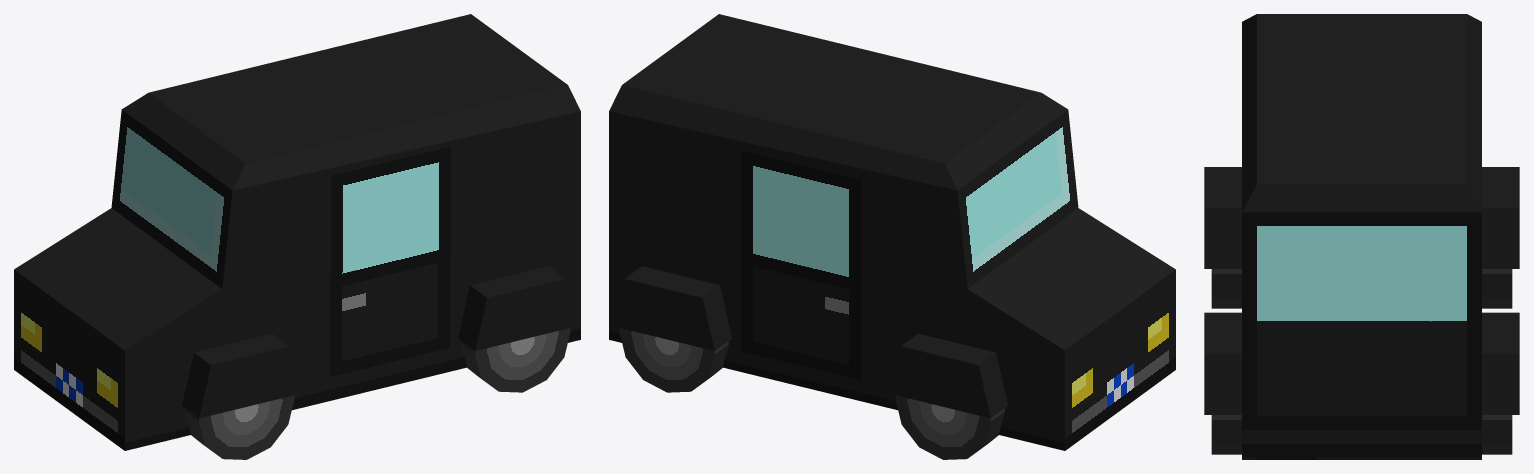
File: black.gltf
3 renders of one model, left to right at view 1: azimuth 30°, elevation 25°; view 2: azimuth 150°, elevation 25°; view 3: azimuth 270°, elevation 25°, orthographic. The views are drawn at different scales.
Visible parts, largest first — view 1: cube (×3), circle (×2); view 2: cube (×3), circle (×2); view 3: cube (×5), circle (×4).
Boxes of the visible parts, x1,y1,x2,y2 form: cube (×3): (14, 14, 580, 450); circle (×2): (185, 328, 570, 459); cube (×3): (609, 14, 1175, 450); circle (×2): (619, 328, 1004, 459); cube (×5): (1204, 14, 1519, 459); circle (×4): (1211, 269, 1512, 454).
Size of the model in its own units: 2.38 by 1.38 by 1.31.
1 material, 1 textured.
